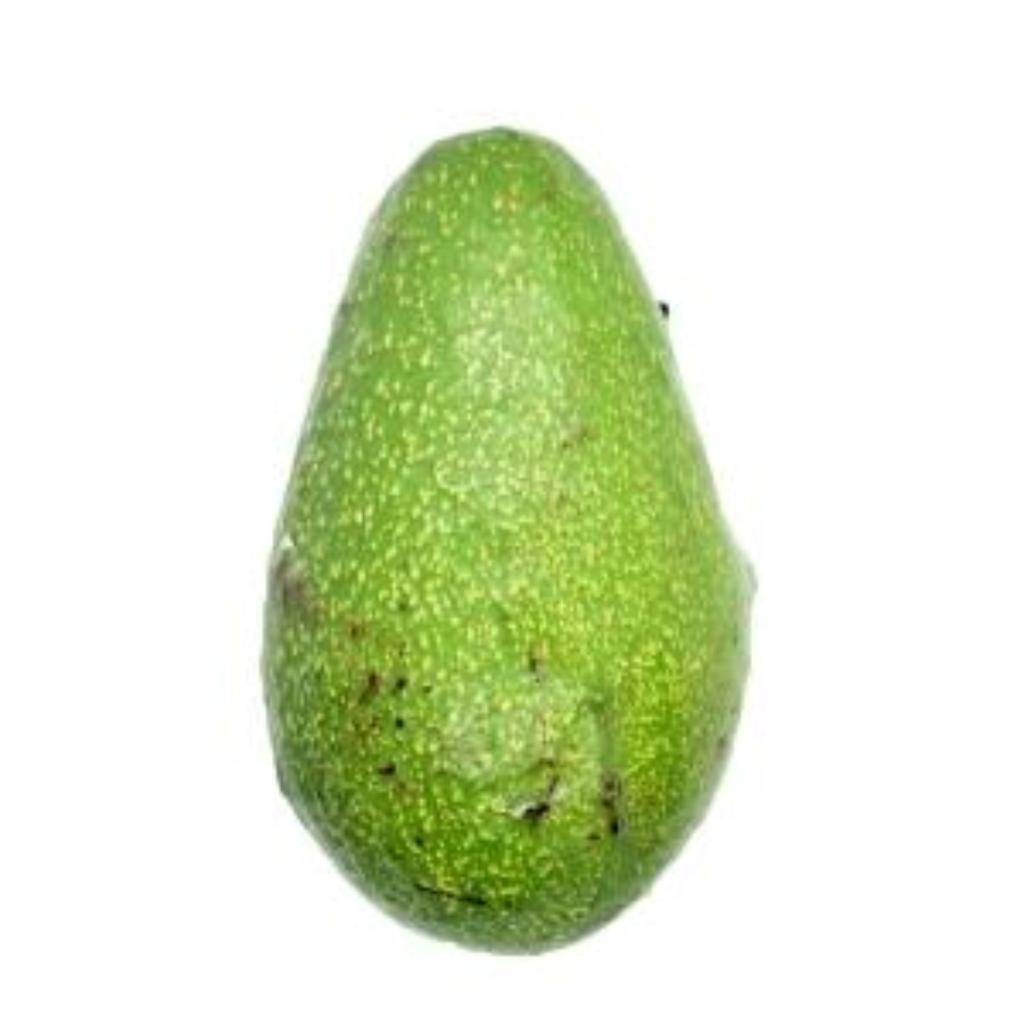cercospora_spot: (254, 98, 780, 956)
